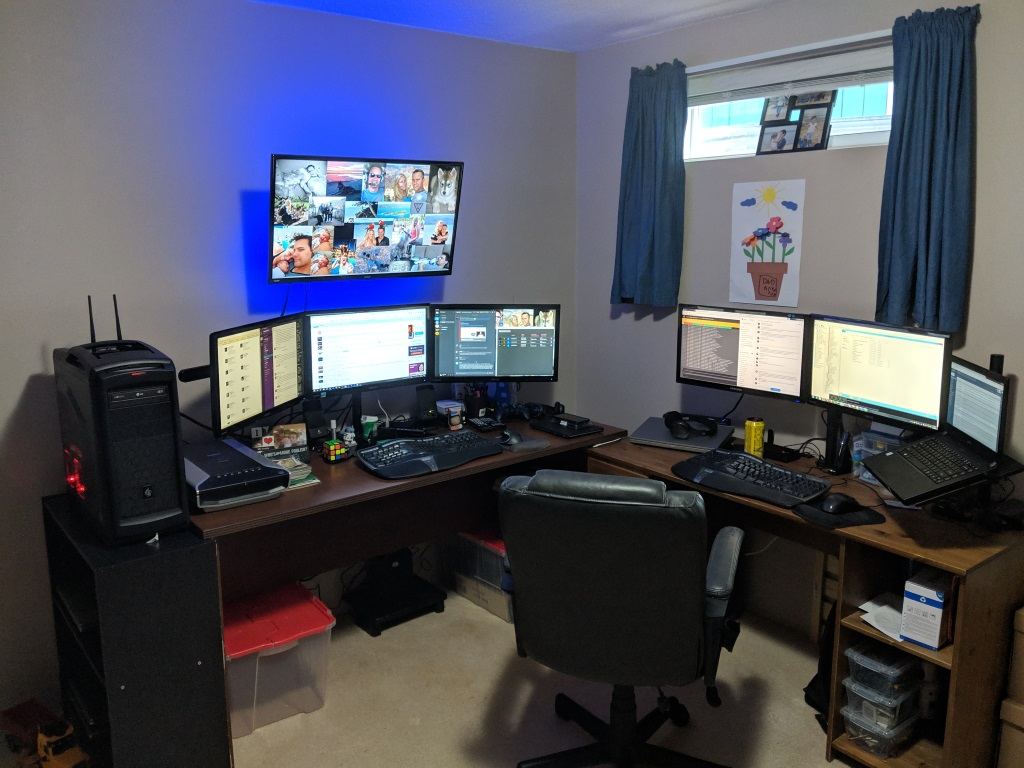Chair (Generic): (497, 468, 746, 768)
Decoration (Picture): (266, 153, 465, 282), (728, 178, 807, 302), (756, 87, 837, 153), (251, 423, 312, 467)
Decoration (Rubric's Cube): (324, 437, 345, 463)
Desktop (Windows): (52, 338, 187, 545)
Keyboard (Ergonomic): (671, 446, 832, 509), (356, 427, 504, 479)
Laptop (Generic): (629, 416, 735, 455)
Laptop (Windows): (862, 354, 1011, 507)
Monitor (Laptop): (940, 351, 1014, 467)
Monitor (Portrait): (807, 305, 952, 434), (676, 302, 806, 403), (208, 309, 306, 439), (305, 303, 429, 400), (430, 301, 561, 383)
Mouse (Ergonomic): (500, 429, 523, 447)
Mouse (Generic): (822, 493, 860, 515)
Mousepad (Generic): (792, 501, 886, 529), (493, 434, 550, 453)
